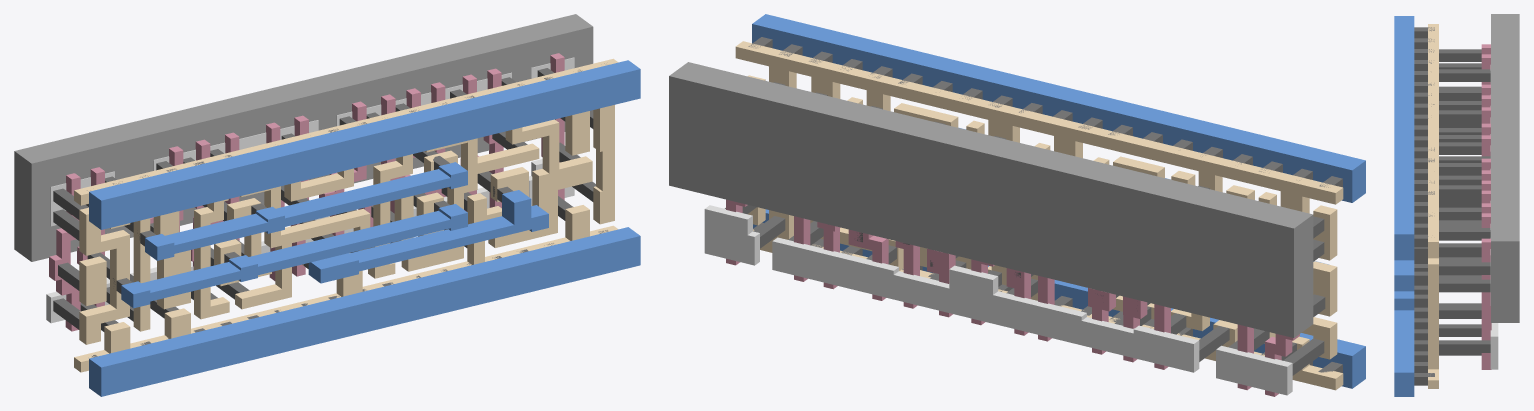
Rendered from sky130_fd_sc_hd__dfrtp_1.gds.gltf.
3 views of the same model, side by side, from view 1: azimuth 30°, elevation 25°; view 2: azimuth 150°, elevation 25°; view 3: azimuth 270°, elevation 25° (orthographic). The views are drawn at different scales.
Parts seen in each view (by area): view 1: sky130_fd_sc_hd__dfrtp_1_met1, sky130_fd_sc_hd__dfrtp_1_li1, sky130_fd_sc_hd__dfrtp_1_nwell, sky130_fd_sc_hd__dfrtp_1_poly, sky130_fd_sc_hd__dfrtp_1_licon, sky130_fd_sc_hd__dfrtp_1_diff, sky130_fd_sc_hd__dfrtp_1_mcon; view 2: sky130_fd_sc_hd__dfrtp_1_nwell, sky130_fd_sc_hd__dfrtp_1_li1, sky130_fd_sc_hd__dfrtp_1_met1, sky130_fd_sc_hd__dfrtp_1_diff, sky130_fd_sc_hd__dfrtp_1_poly, sky130_fd_sc_hd__dfrtp_1_licon, sky130_fd_sc_hd__dfrtp_1_mcon; view 3: sky130_fd_sc_hd__dfrtp_1_licon, sky130_fd_sc_hd__dfrtp_1_nwell, sky130_fd_sc_hd__dfrtp_1_met1, sky130_fd_sc_hd__dfrtp_1_mcon, sky130_fd_sc_hd__dfrtp_1_li1, sky130_fd_sc_hd__dfrtp_1_poly, sky130_fd_sc_hd__dfrtp_1_diff.
Boxes of the visible parts, x1,y1,x2,y2 form: sky130_fd_sc_hd__dfrtp_1_met1: (89,60,640,396); sky130_fd_sc_hd__dfrtp_1_li1: (74,58,618,372); sky130_fd_sc_hd__dfrtp_1_nwell: (14,14,593,261); sky130_fd_sc_hd__dfrtp_1_poly: (49,53,564,331); sky130_fd_sc_hd__dfrtp_1_licon: (53,68,595,331); sky130_fd_sc_hd__dfrtp_1_diff: (46,57,574,323); sky130_fd_sc_hd__dfrtp_1_mcon: (87,63,608,357); sky130_fd_sc_hd__dfrtp_1_nwell: (669,62,1313,337); sky130_fd_sc_hd__dfrtp_1_li1: (735,41,1343,390); sky130_fd_sc_hd__dfrtp_1_met1: (752,14,1365,388); sky130_fd_sc_hd__dfrtp_1_diff: (704,205,1292,395); sky130_fd_sc_hd__dfrtp_1_poly: (726,199,1299,396); sky130_fd_sc_hd__dfrtp_1_licon: (725,82,1325,375); sky130_fd_sc_hd__dfrtp_1_mcon: (748,37,1342,372); sky130_fd_sc_hd__dfrtp_1_licon: (1439,49,1490,355); sky130_fd_sc_hd__dfrtp_1_nwell: (1491,14,1519,322); sky130_fd_sc_hd__dfrtp_1_met1: (1394,16,1414,396); sky130_fd_sc_hd__dfrtp_1_mcon: (1414,27,1434,385); sky130_fd_sc_hd__dfrtp_1_li1: (1428,24,1438,388); sky130_fd_sc_hd__dfrtp_1_poly: (1481,44,1491,369); sky130_fd_sc_hd__dfrtp_1_diff: (1490,65,1498,369).
Size of the model in its own units: 9.58 by 3.2 by 2.24.
